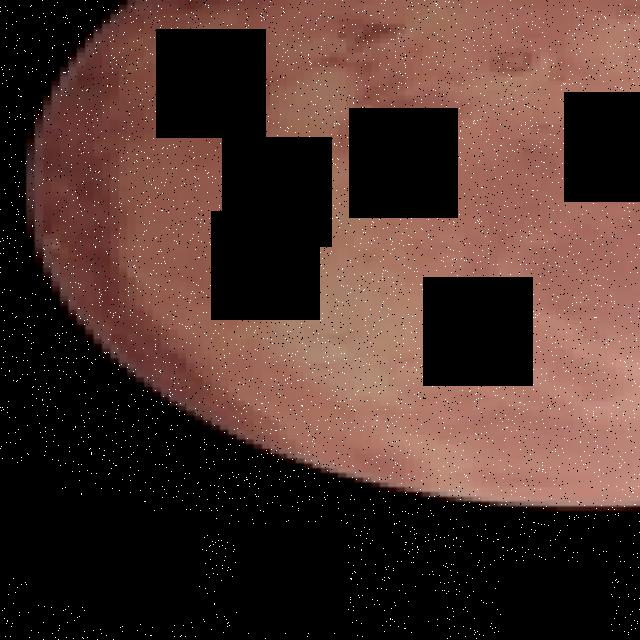Mars: (34, 0, 640, 511)
